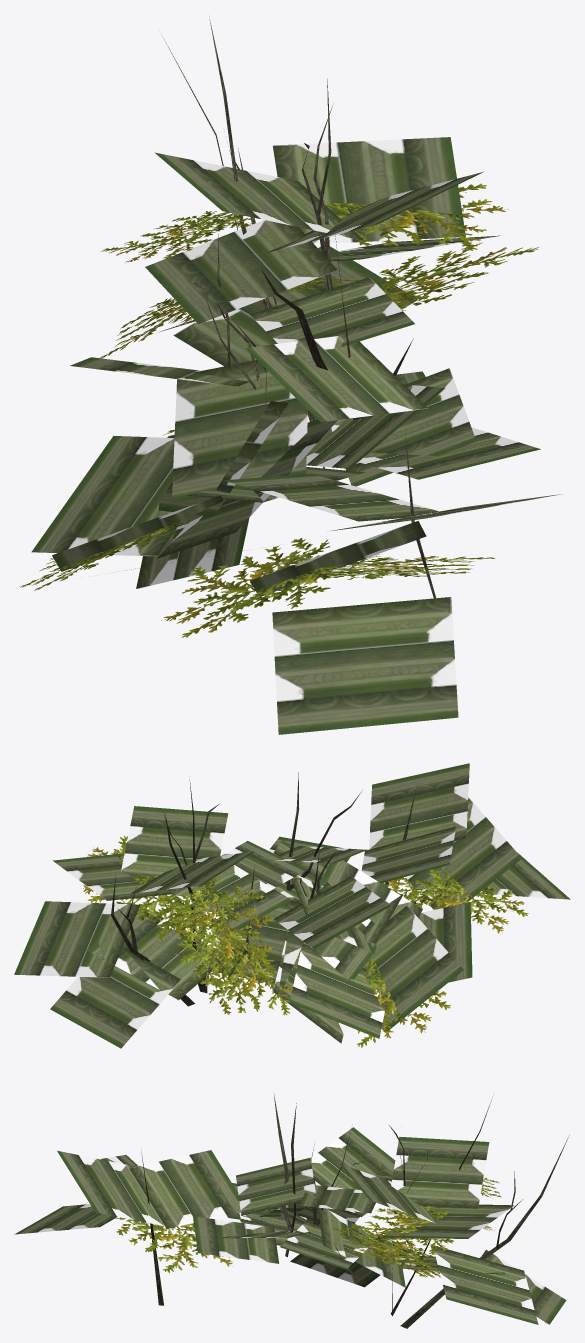
The model's file is S_Tree_Green018_029.FBX.
3 views of the same model, one above another, from view 1: azimuth 30°, elevation 25°; view 2: azimuth 150°, elevation 25°; view 3: azimuth 270°, elevation 25° (orthographic). The views are drawn at different scales.
Visible parts, largest first — view 1: S_Tree_Green018_029; view 2: S_Tree_Green018_029; view 3: S_Tree_Green018_029.
Boxes of the visible parts, x1,y1,x2,y2 form: S_Tree_Green018_029: (19,17,562,734); S_Tree_Green018_029: (14,763,570,1048); S_Tree_Green018_029: (14,1094,569,1328).
Bounding box in the file's own units: 711 × 498 × 1013.
